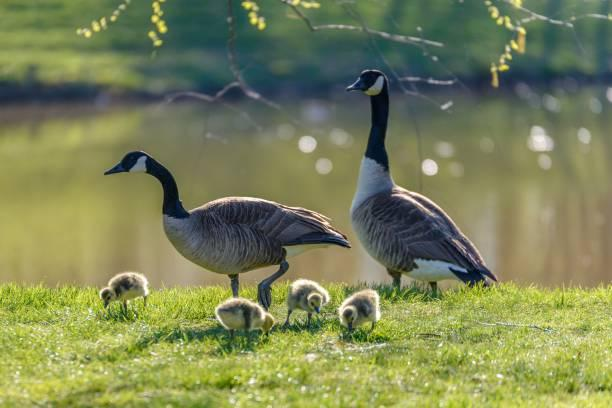Canadian-Goose: (102, 150, 344, 296), (343, 68, 488, 290), (214, 297, 278, 341), (335, 287, 383, 335), (100, 271, 151, 308), (285, 278, 325, 321)
